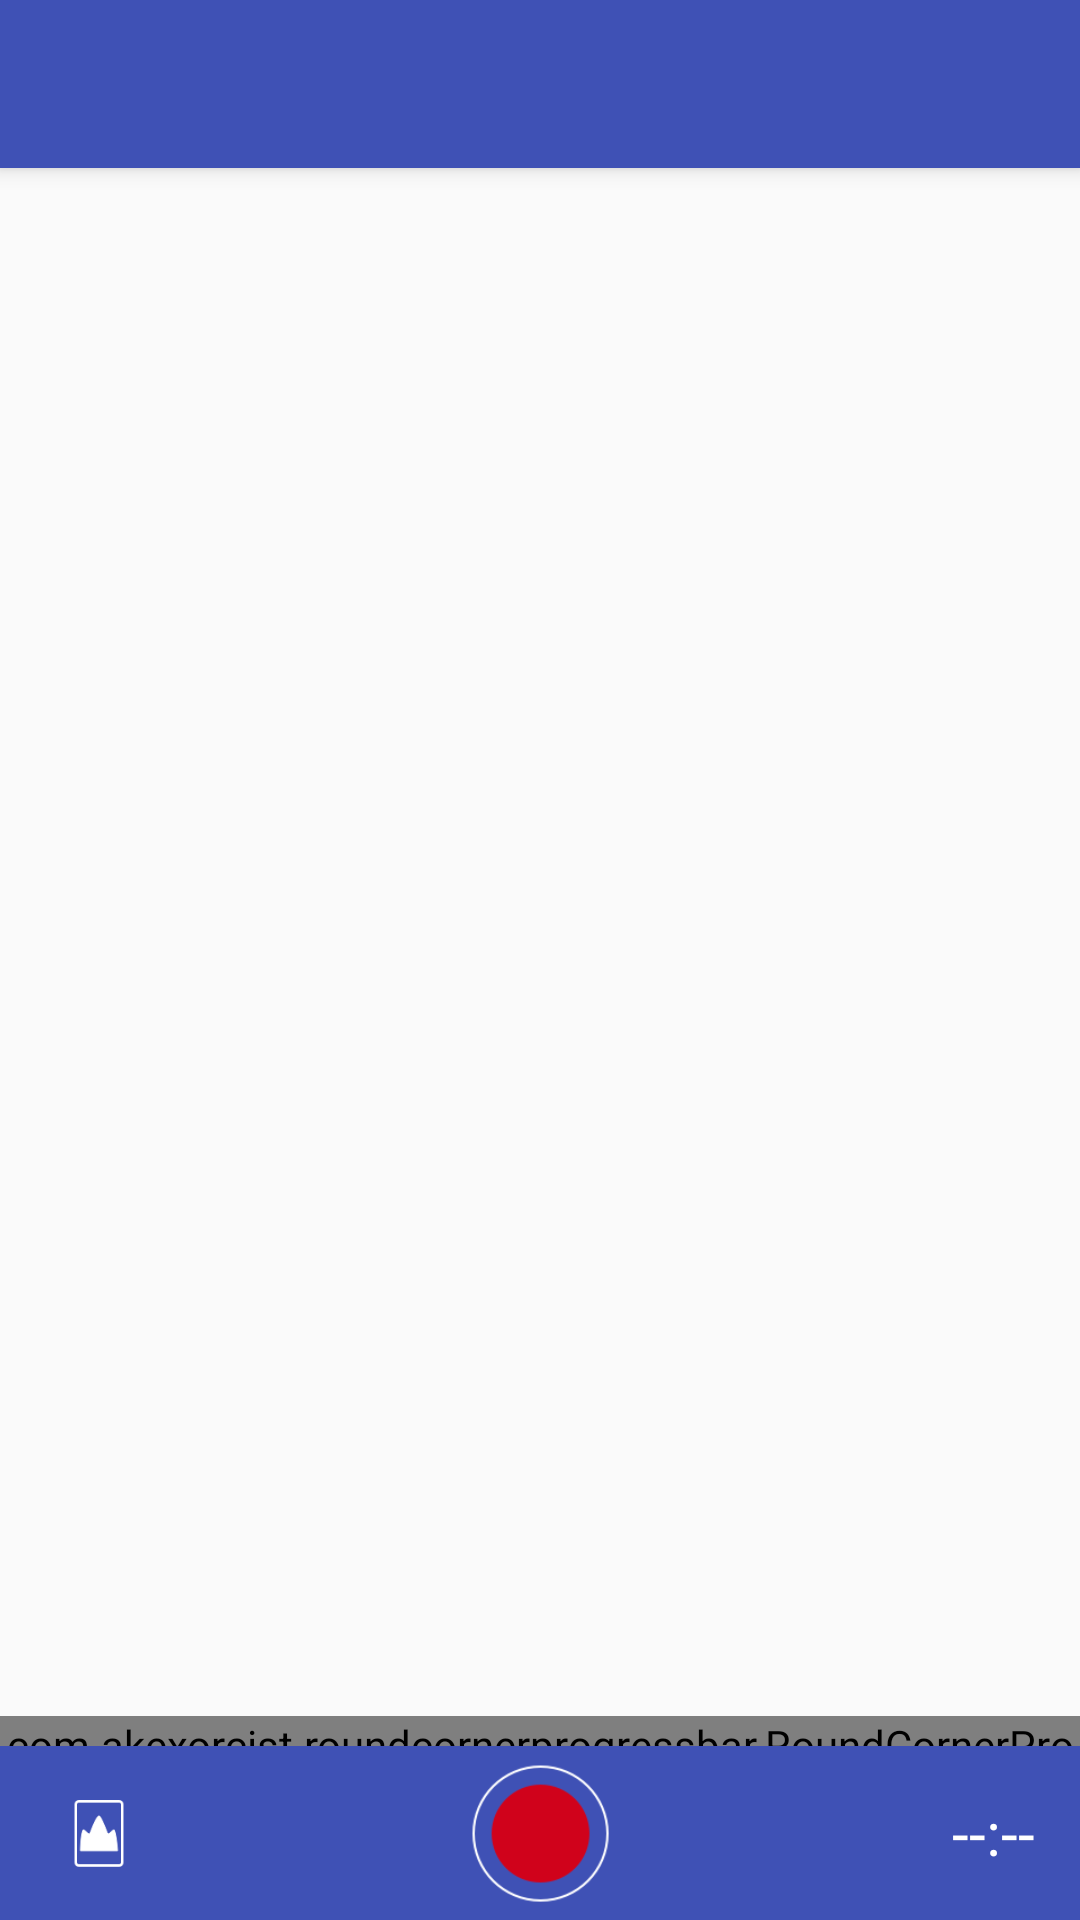

Locate icon controls on the screen. Image size 1080px x 1920px, boxes as (x1, y1, x2, y2).
record: (472, 1765, 609, 1902)
